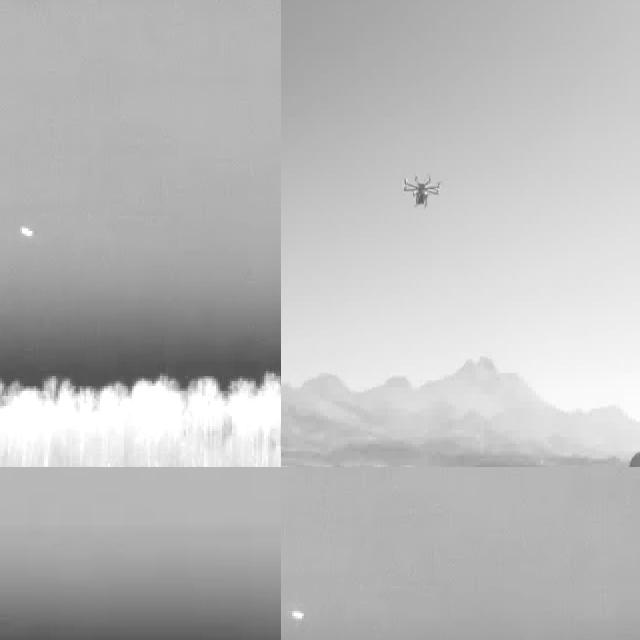1: (16, 224, 46, 244), (286, 606, 316, 626)
drone: (400, 170, 444, 218)
